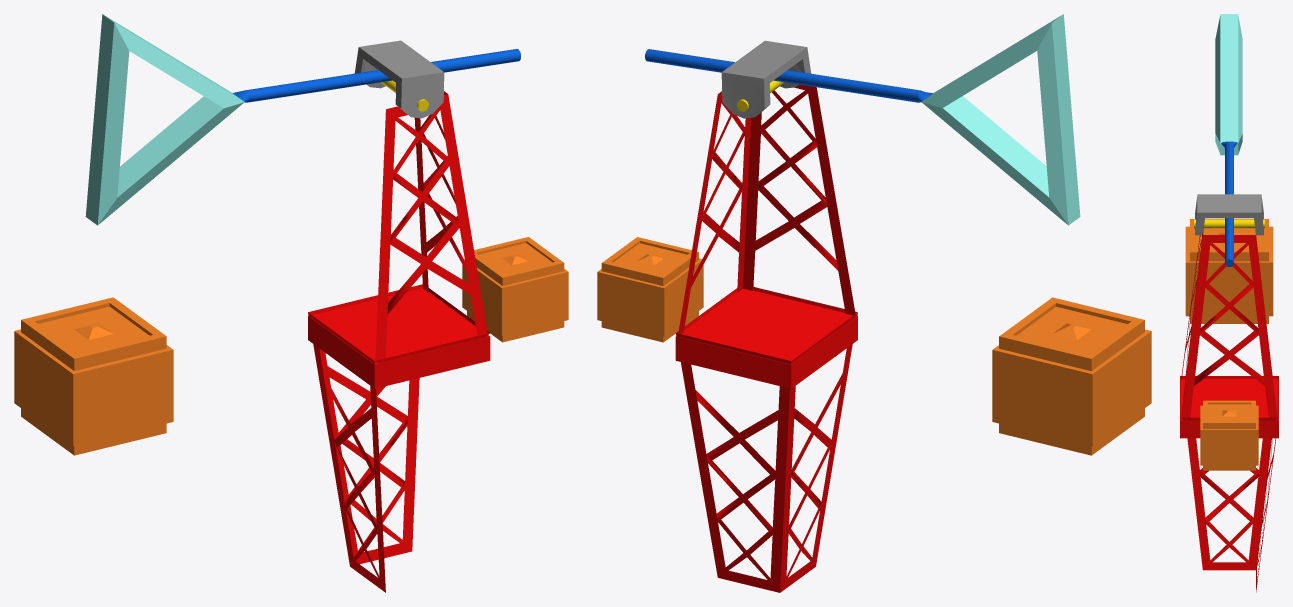
3 views of the same model, side by side, from view 1: azimuth 30°, elevation 25°; view 2: azimuth 150°, elevation 25°; view 3: azimuth 270°, elevation 25° (orthographic). The views are drawn at different scales.
Visible parts, largest first — view 1: Box008, Box006, Box001, Box002, Box009, Box003, Box004, Box007, Cylinder002, Box005; view 2: Box008, Box006, Box001, Box003, Box009, Box002, Box004, Box005, Box007, Cylinder002; view 3: Box005, Box008, Box004, Box009, Box006, Box001, Box007, Cylinder002, Box003, Box002, Cylinder001.
Boxes of the visible parts, x1=… form: Box008: x1=14, y1=297, x2=173, y2=455; Box006: x1=85, y1=14, x2=244, y2=225; Box001: x1=308, y1=288, x2=490, y2=388; Box002: x1=375, y1=94, x2=487, y2=363; Box009: x1=462, y1=237, x2=568, y2=342; Box003: x1=308, y1=284, x2=489, y2=564; Box004: x1=308, y1=288, x2=489, y2=592; Box007: x1=354, y1=40, x2=444, y2=118; Cylinder002: x1=233, y1=49, x2=520, y2=102; Box005: x1=414, y1=91, x2=466, y2=292; Box008: x1=992, y1=297, x2=1151, y2=455; Box006: x1=921, y1=14, x2=1080, y2=225; Box001: x1=675, y1=288, x2=857, y2=388; Box003: x1=676, y1=287, x2=857, y2=592; Box009: x1=597, y1=237, x2=703, y2=342; Box002: x1=743, y1=84, x2=855, y2=315; Box004: x1=676, y1=288, x2=857, y2=592; Box005: x1=678, y1=91, x2=751, y2=333; Box007: x1=721, y1=40, x2=811, y2=118; Cylinder002: x1=645, y1=49, x2=932, y2=102; Box005: x1=1181, y1=235, x2=1277, y2=419; Box008: x1=1185, y1=219, x2=1273, y2=323; Box004: x1=1180, y1=376, x2=1278, y2=570; Box009: x1=1200, y1=400, x2=1258, y2=470; Box006: x1=1215, y1=14, x2=1242, y2=155; Box001: x1=1180, y1=379, x2=1278, y2=438; Box007: x1=1195, y1=194, x2=1263, y2=235; Cylinder002: x1=1221, y1=141, x2=1237, y2=267; Box003: x1=1180, y1=377, x2=1278, y2=592; Box002: x1=1181, y1=232, x2=1202, y2=416; Cylinder001: x1=1194, y1=219, x2=1264, y2=228.
Size of the model in its own units: 2186 by 2584 by 500.
